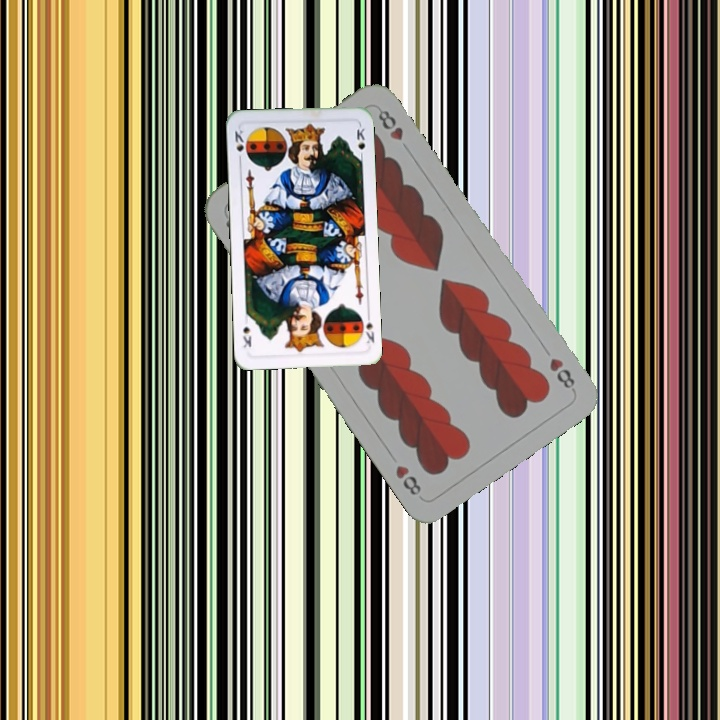H8: (545, 353, 578, 394)
SK: (231, 125, 246, 165), (361, 309, 377, 346)
